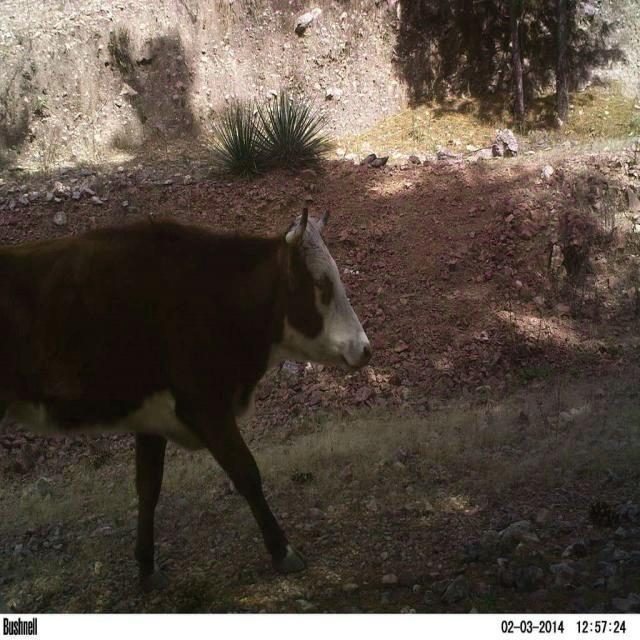cow: (0, 209, 370, 582)
